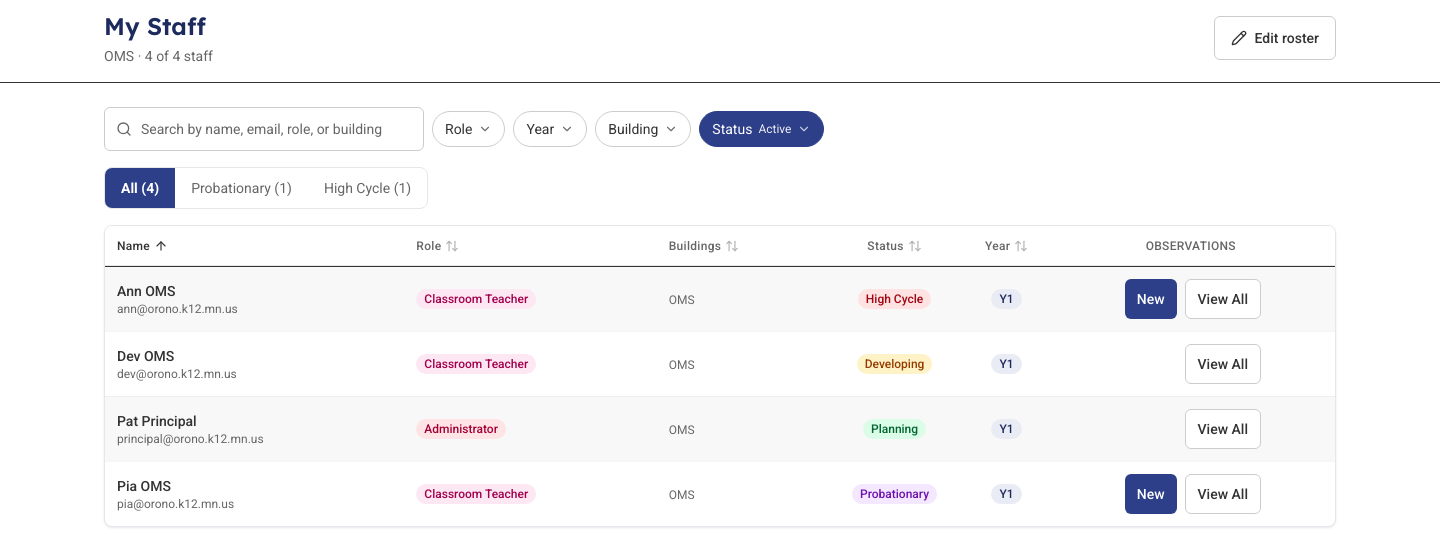
MyStaffPage › filters by the Probationary and High Cycle tabs
Check: the tab "All (4)" is shown, box [105,168,175,208]
Step 1. Click the tab "Probationary (1)" → x=242, y=188, box [175,168,308,208]
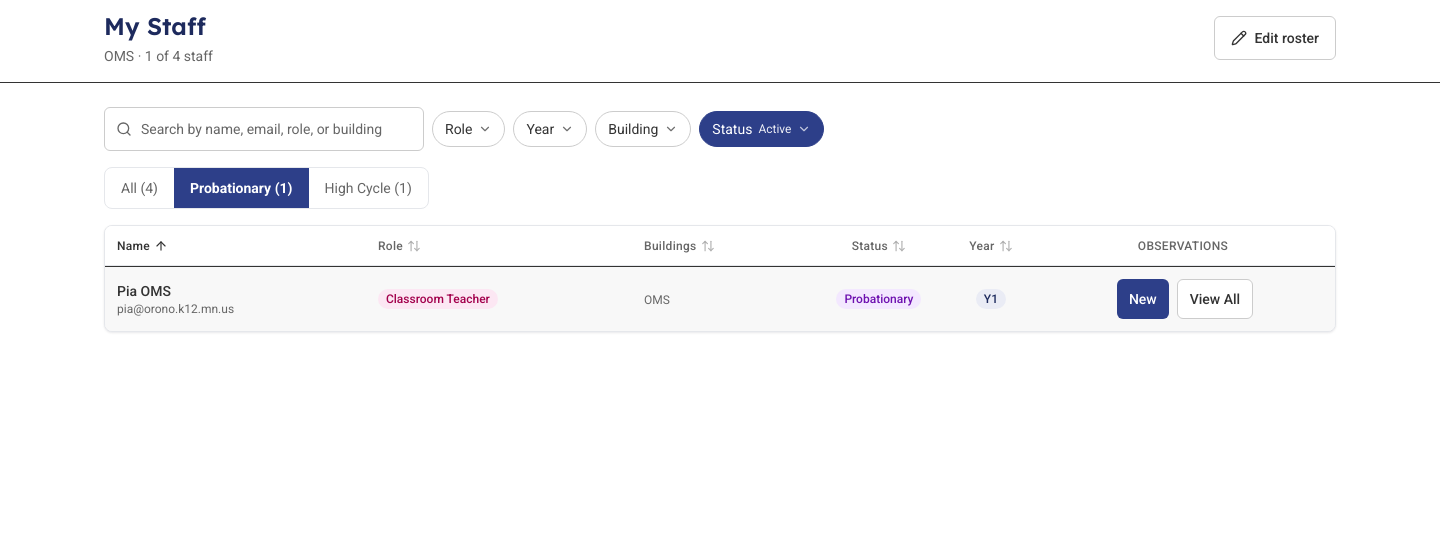
Check: the text "Pia OMS" is shown, box [117,282,171,298]
Check: the text "Ann OMS" is gone
Step 2. Click the tab "High Cycle (1)" → x=368, y=188, box [308,168,428,208]
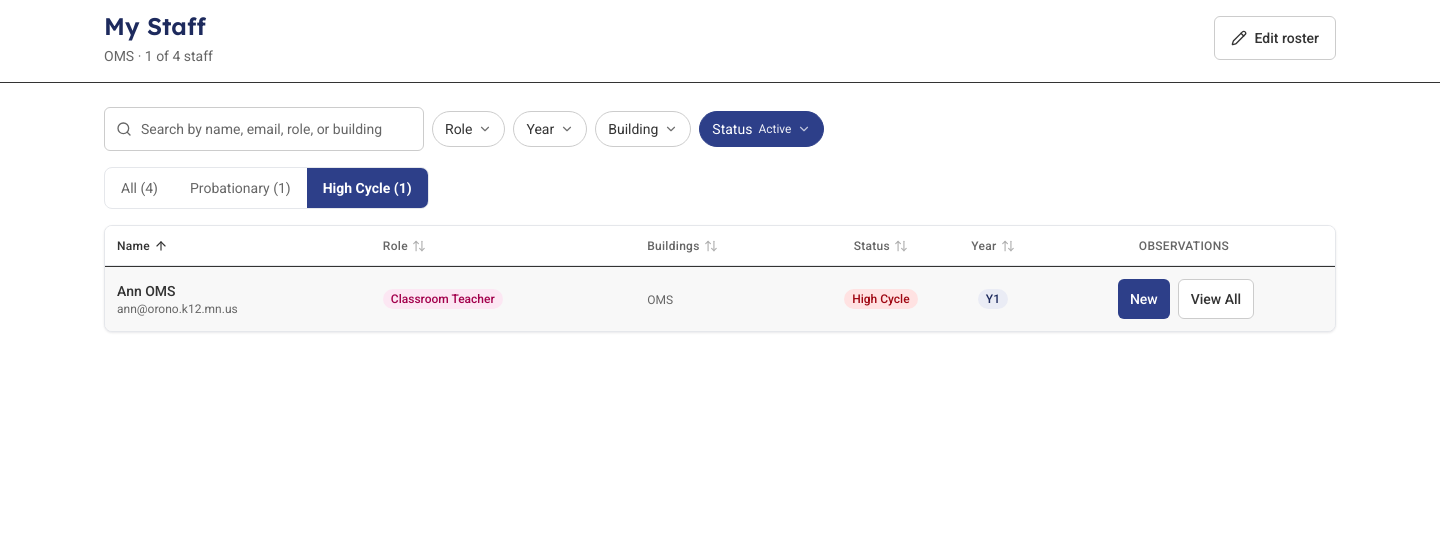
Check: the text "Dev OMS" is not shown
Check: the text "Ann OMS" is shown, box [117,282,176,298]
